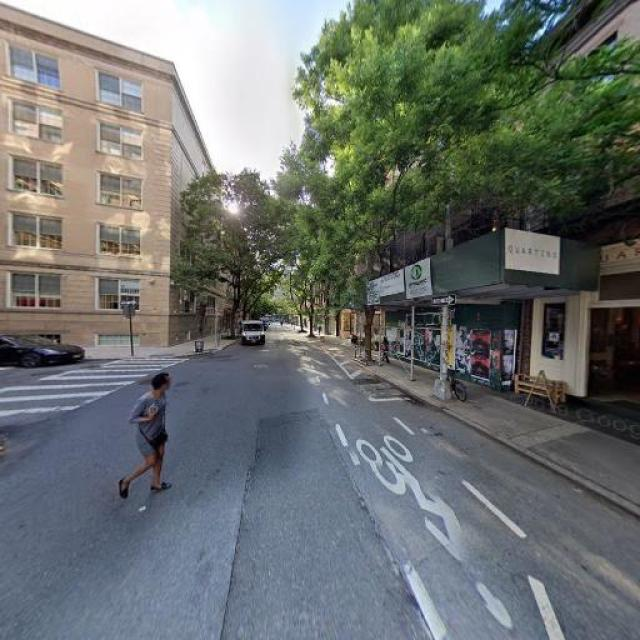Building: (1, 8, 225, 353), (527, 1, 640, 419), (388, 75, 522, 388), (339, 214, 385, 349)
